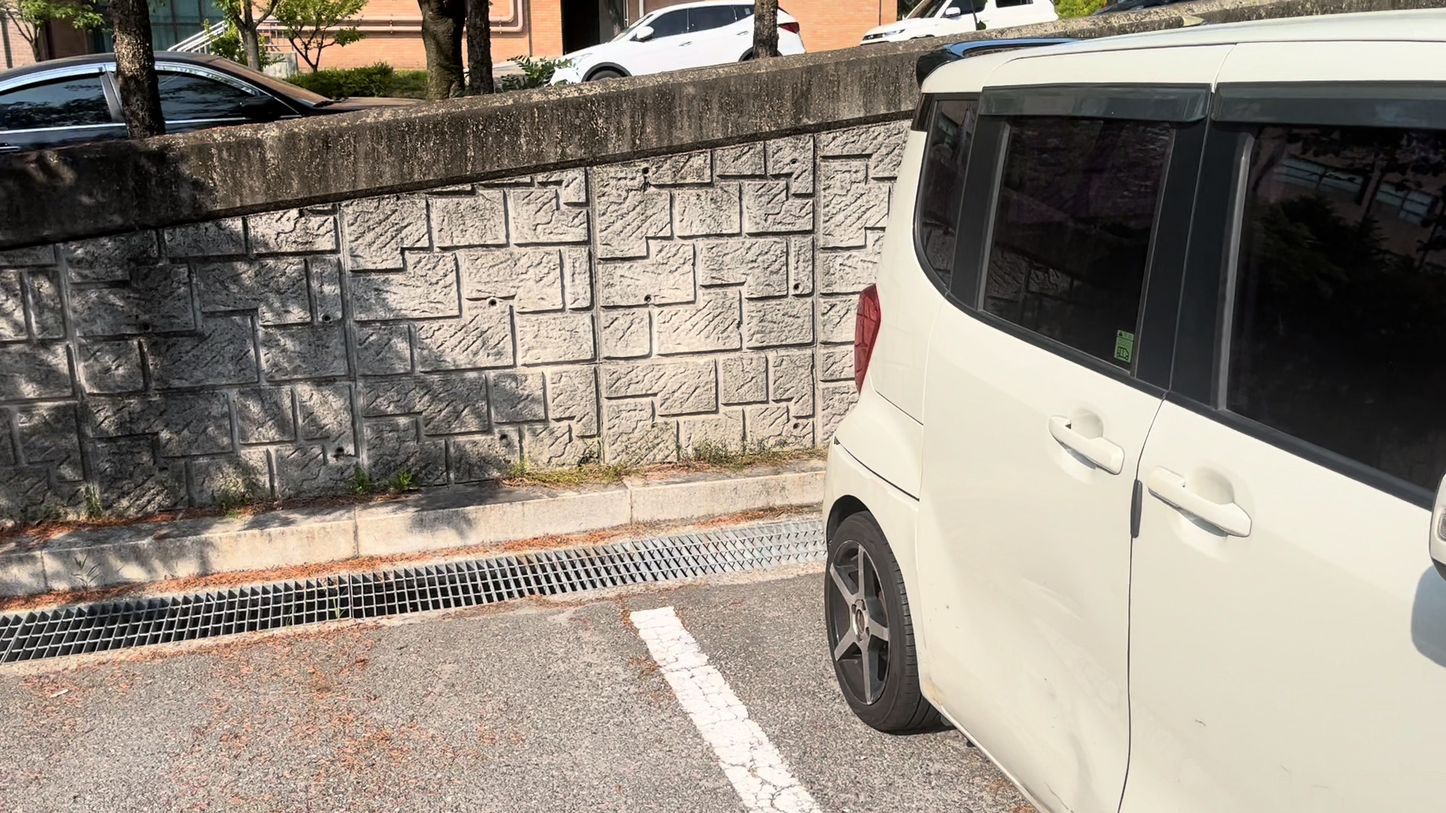door_handle: (1148, 467, 1255, 533), (1045, 419, 1127, 470)
